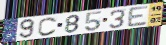3: (109, 9, 127, 29)
5: (84, 10, 103, 32)
8: (64, 14, 81, 34)
9: (18, 18, 36, 39)
C: (37, 16, 58, 37)
E: (127, 5, 150, 29)
